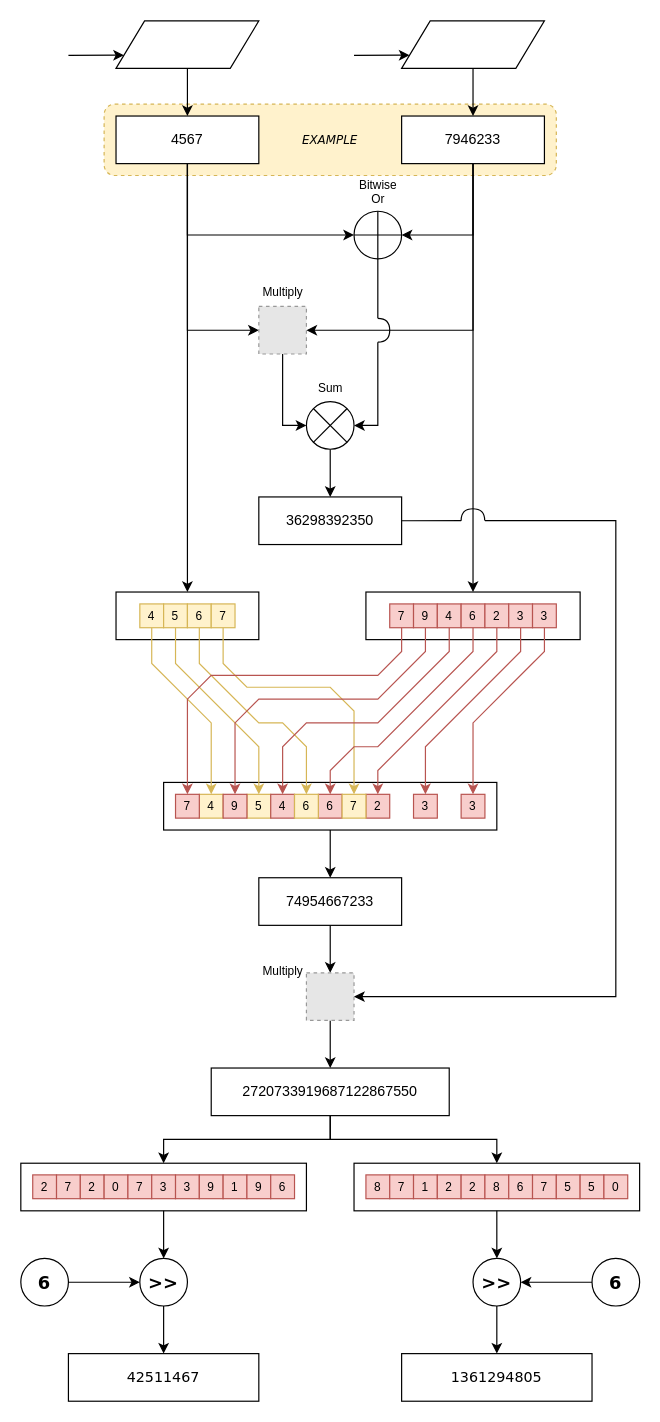
This 660x1422 diagram has some shape labels left out. Grey dashed boxes stand in for pictures. The shapes that lost their labels are listed below. From the top down, each one's centre as x and y in pixels, then its label:
the point at 187,44: Prime Number 1
the point at 472,44: Prime Number 2
